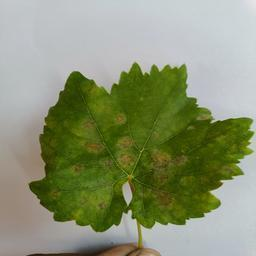Powdery-Mildew: (149, 145, 186, 208), (101, 137, 140, 174), (76, 115, 104, 157), (78, 182, 110, 213), (108, 113, 124, 130)
